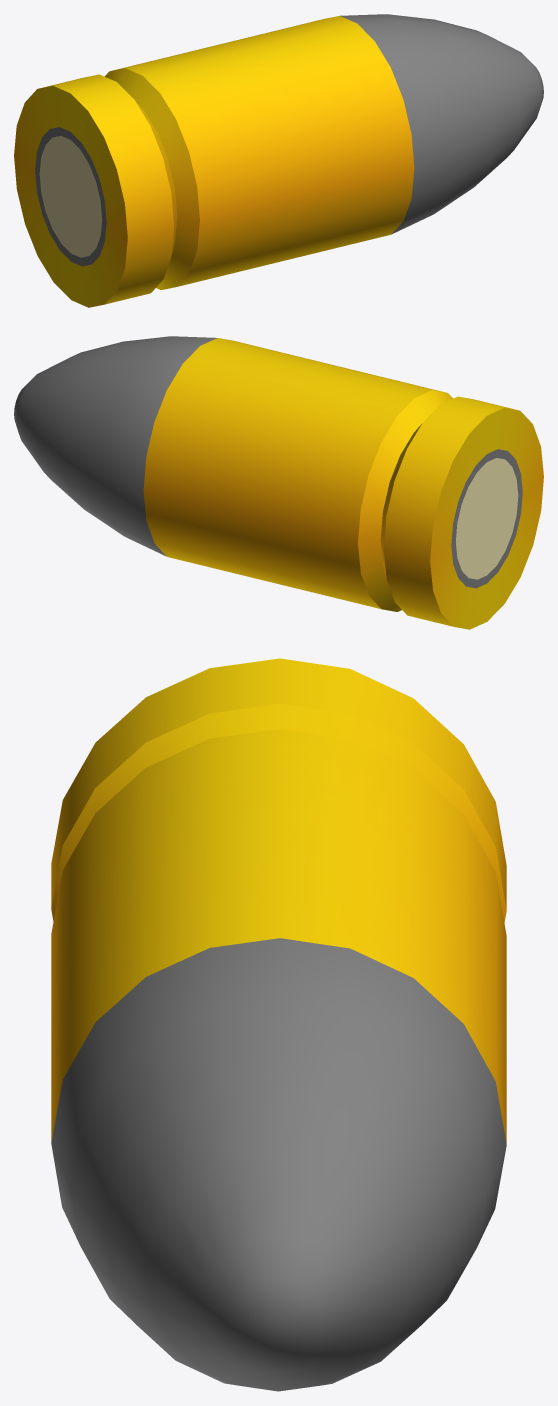
The model's file is Bullet.fbx.
3 renders of one model, top to bottom at view 1: azimuth 30°, elevation 25°; view 2: azimuth 150°, elevation 25°; view 3: azimuth 270°, elevation 25°, orthographic. The views are drawn at different scales.
Parts seen in each view (by area): view 1: Bullet; view 2: Bullet; view 3: Bullet.
Boxes of the visible parts, <box> form: Bullet: <box>14,14,543,307</box>; Bullet: <box>14,336,543,629</box>; Bullet: <box>51,658,506,1391</box>.
Bounding box in the file's own units: 11.27 × 4.74 × 4.74.
